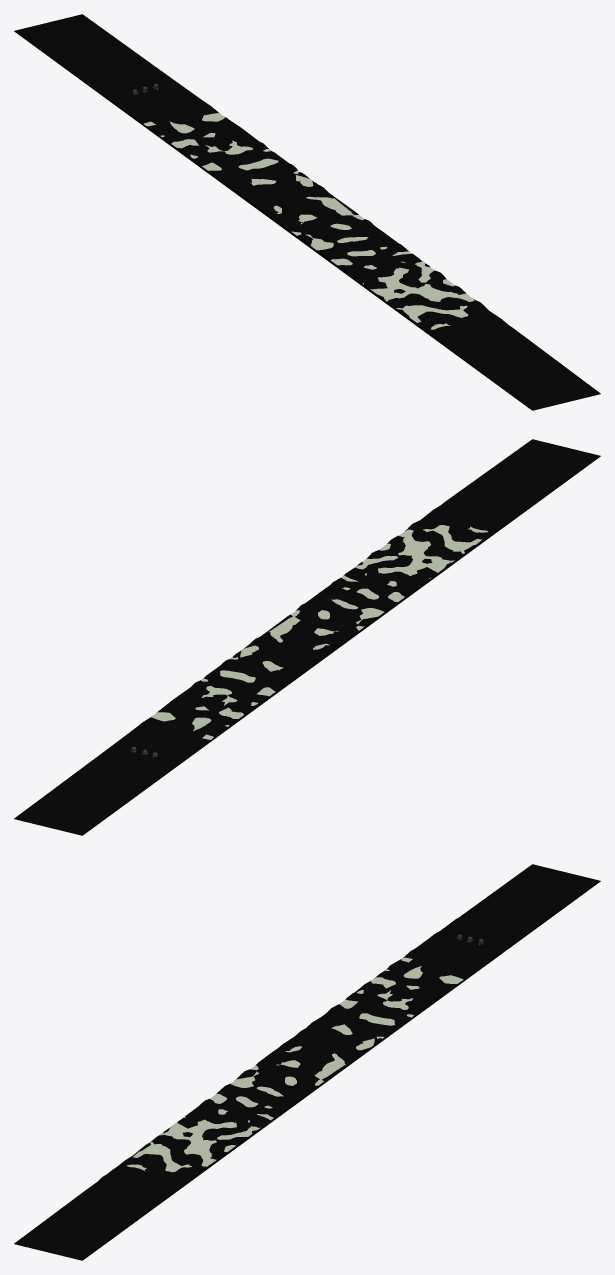
File: Sphere-Bots_Run-Cycle_Test_on_Rough_Terrain.obj
The picture shows the model from 3 angles, top to bottom: view 1: azimuth 30°, elevation 25°; view 2: azimuth 150°, elevation 25°; view 3: azimuth 330°, elevation 25°; orthographic projection.
Visible parts, largest first — view 1: Sphere-Bots_Run-Cycle_Test_on_Rough_Terrain_Landscape; view 2: Sphere-Bots_Run-Cycle_Test_on_Rough_Terrain_Landscape; view 3: Sphere-Bots_Run-Cycle_Test_on_Rough_Terrain_Landscape.
Boxes of the visible parts, x1=… form: Sphere-Bots_Run-Cycle_Test_on_Rough_Terrain_Landscape: x1=14, y1=14, x2=600, y2=410; Sphere-Bots_Run-Cycle_Test_on_Rough_Terrain_Landscape: x1=14, y1=439, x2=600, y2=835; Sphere-Bots_Run-Cycle_Test_on_Rough_Terrain_Landscape: x1=14, y1=864, x2=600, y2=1260.
Bounding box in the file's own units: 39.78 × 3.92 × 521.
